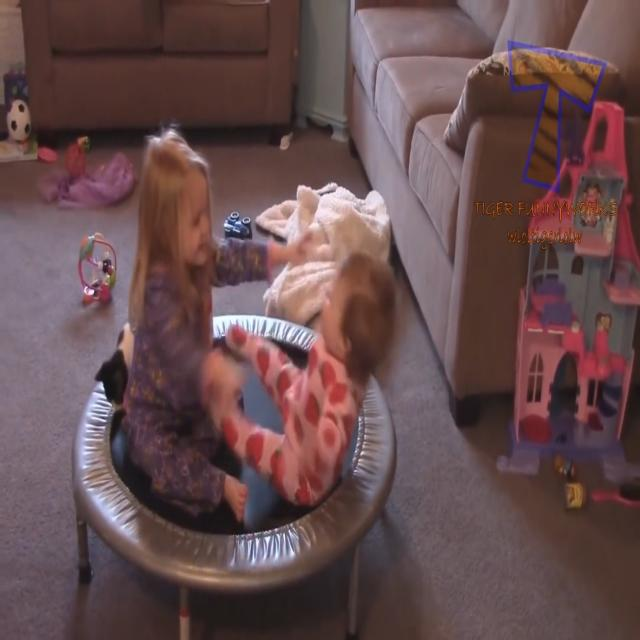dangerous: (247, 248, 389, 531)
safe: (135, 126, 218, 507)
